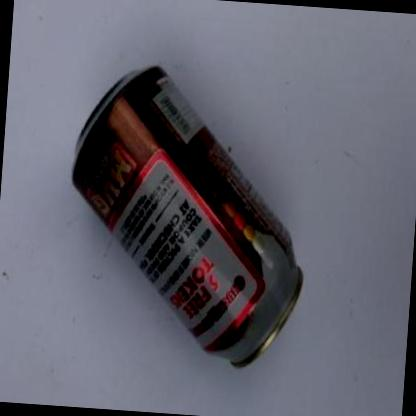alumunium_can: (56, 57, 320, 376)
